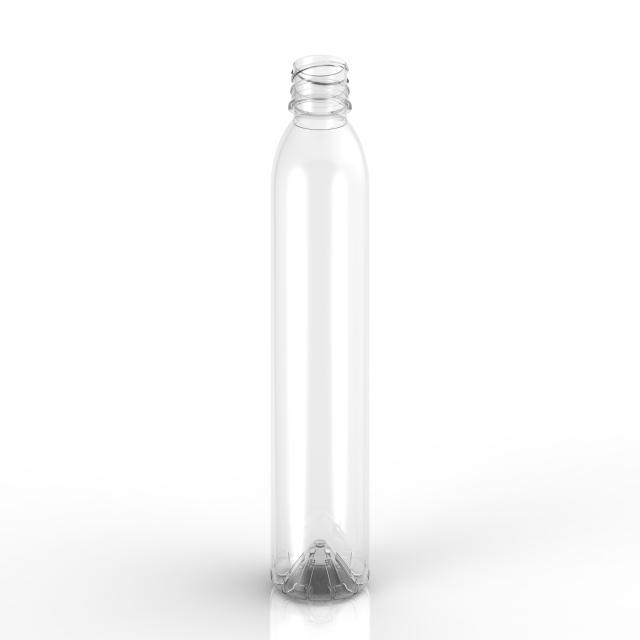bottle: (271, 56, 369, 602)
